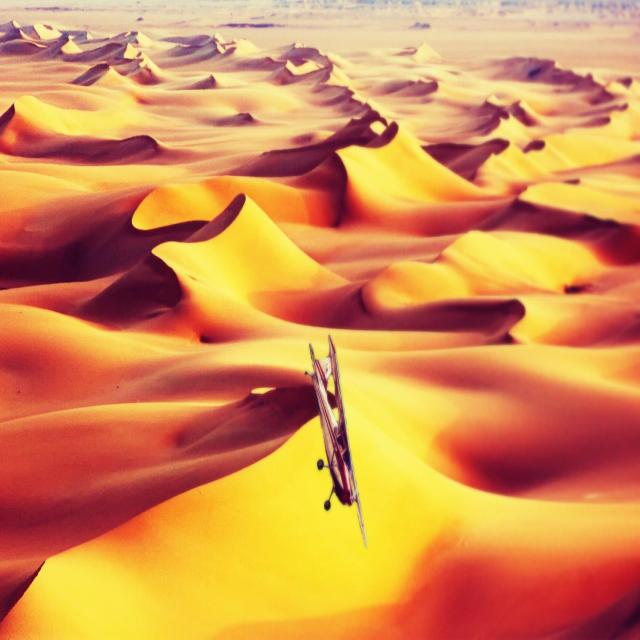airplane: (304, 333, 368, 548)
